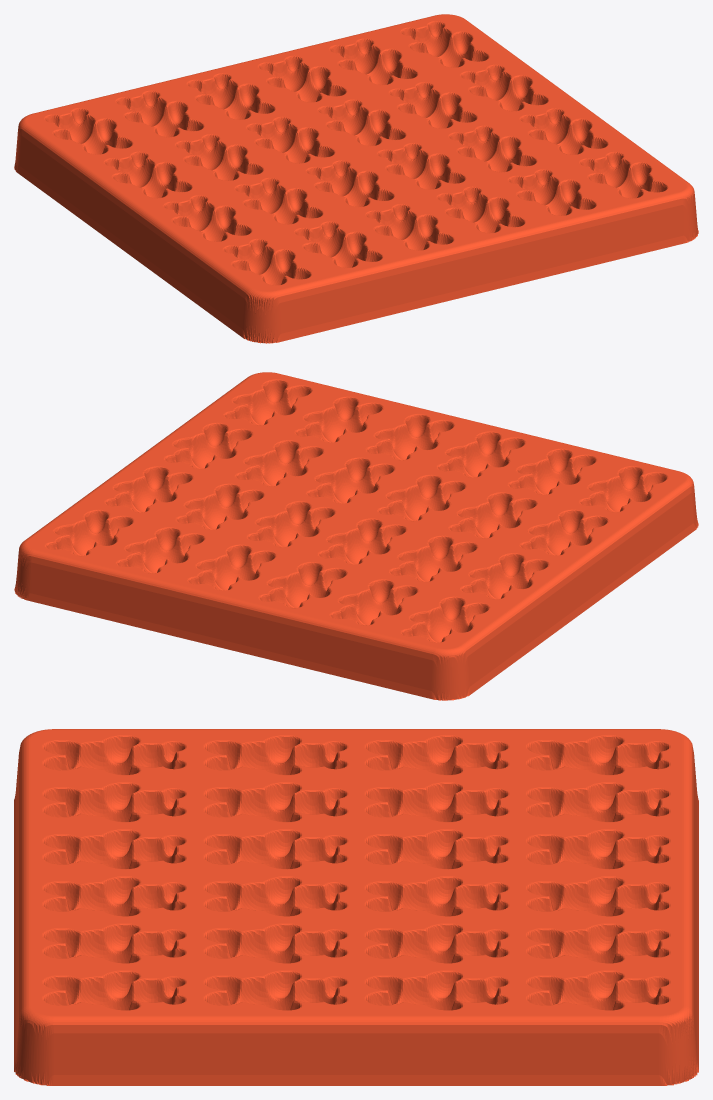
File: mold.glb
3 renders of one model, top to bottom at view 1: azimuth 30°, elevation 25°; view 2: azimuth 150°, elevation 25°; view 3: azimuth 270°, elevation 25°, orthographic. The views are drawn at different scales.
Visible parts, largest first — view 1: geometry_0; view 2: geometry_0; view 3: geometry_0.
Boxes of the visible parts, x1,y1,x2,y2 form: geometry_0: [14, 14, 698, 343]; geometry_0: [14, 372, 698, 700]; geometry_0: [14, 729, 698, 1085].
Size of the model in its own units: 0.1615 by 0.0159 by 0.1561.
